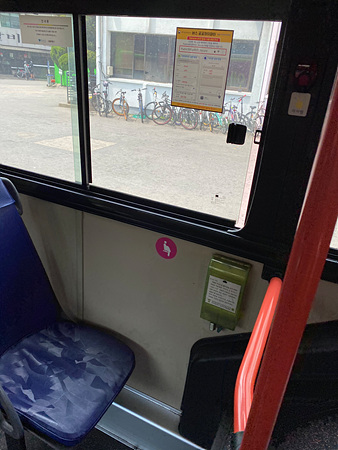seat: (1, 178, 138, 434)
